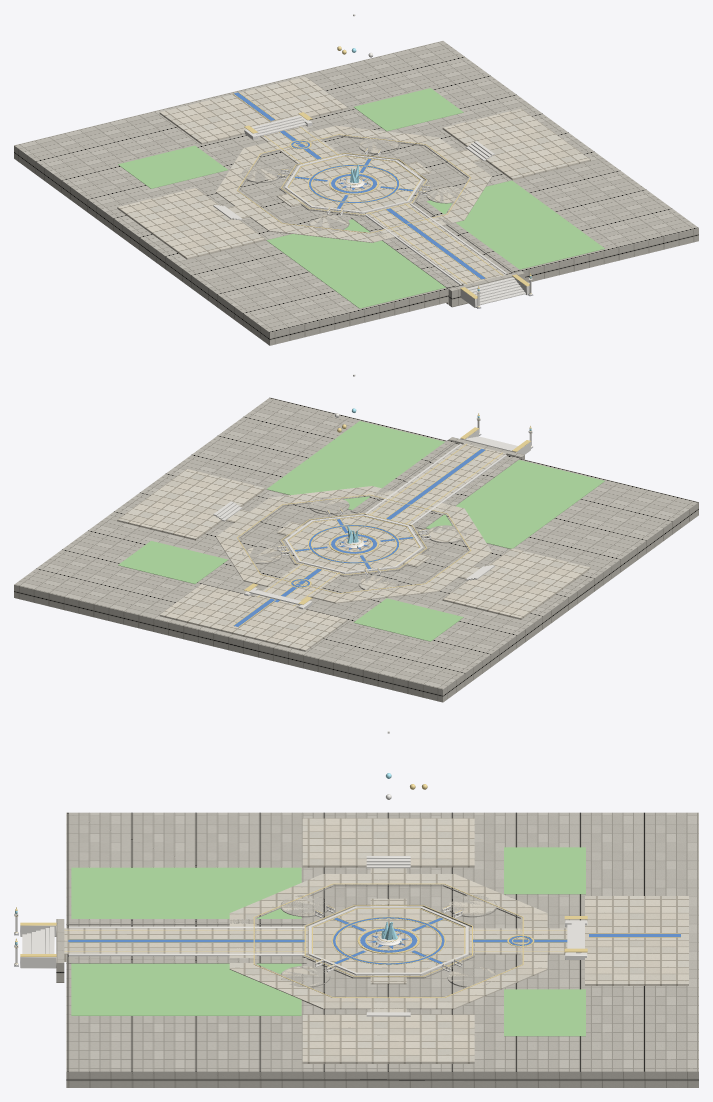
Rendered from LV_PISO.fbx.
3 views of the same model, one above another, from view 1: azimuth 30°, elevation 25°; view 2: azimuth 150°, elevation 25°; view 3: azimuth 270°, elevation 25° (orthographic). The views are drawn at different scales.
Parts seen in each view (by area): view 1: STONE__piso, TILE__piso, GRASS__piso, TILE2__piso, MARB__piso, GOLD__piso, BLUE__piso; view 2: STONE__piso, TILE__piso, GRASS__piso, TILE2__piso, GOLD__piso, MARB__piso, BLUE__piso; view 3: STONE__piso, TILE__piso, GRASS__piso, TILE2__piso, MARB__piso, GOLD__piso, BLUE__piso.
Part boxes in pixels (box(x1,y1,x2,y2)): STONE__piso: box(14, 41, 698, 345); TILE__piso: box(117, 76, 590, 285); GRASS__piso: box(118, 88, 604, 308); TILE2__piso: box(216, 125, 491, 242); MARB__piso: box(213, 115, 532, 307); GOLD__piso: box(233, 92, 531, 306); BLUE__piso: box(234, 92, 485, 279); STONE__piso: box(14, 397, 698, 702); TILE__piso: box(117, 443, 590, 651); GRASS__piso: box(118, 421, 604, 641); TILE2__piso: box(216, 486, 491, 603); GOLD__piso: box(233, 413, 531, 626); MARB__piso: box(213, 418, 532, 609); BLUE__piso: box(234, 449, 485, 626); STONE__piso: box(56, 812, 698, 1087); TILE__piso: box(64, 818, 688, 1063); GRASS__piso: box(71, 847, 585, 1036); TILE2__piso: box(229, 874, 547, 1009); MARB__piso: box(14, 856, 587, 1016); GOLD__piso: box(15, 883, 680, 997); BLUE__piso: box(68, 917, 680, 964).
Size of the model in its own units: 306 by 126 by 342.
Materials: 10 (3 with a texture image).
